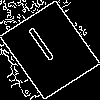I: (24, 25, 63, 72)
